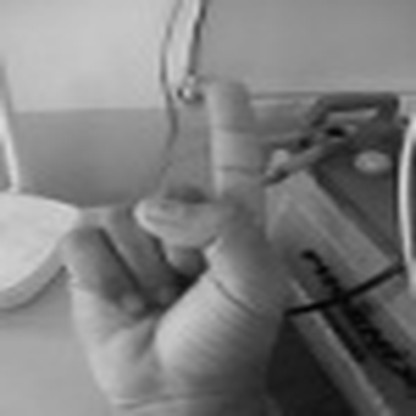d: (46, 72, 272, 416)
